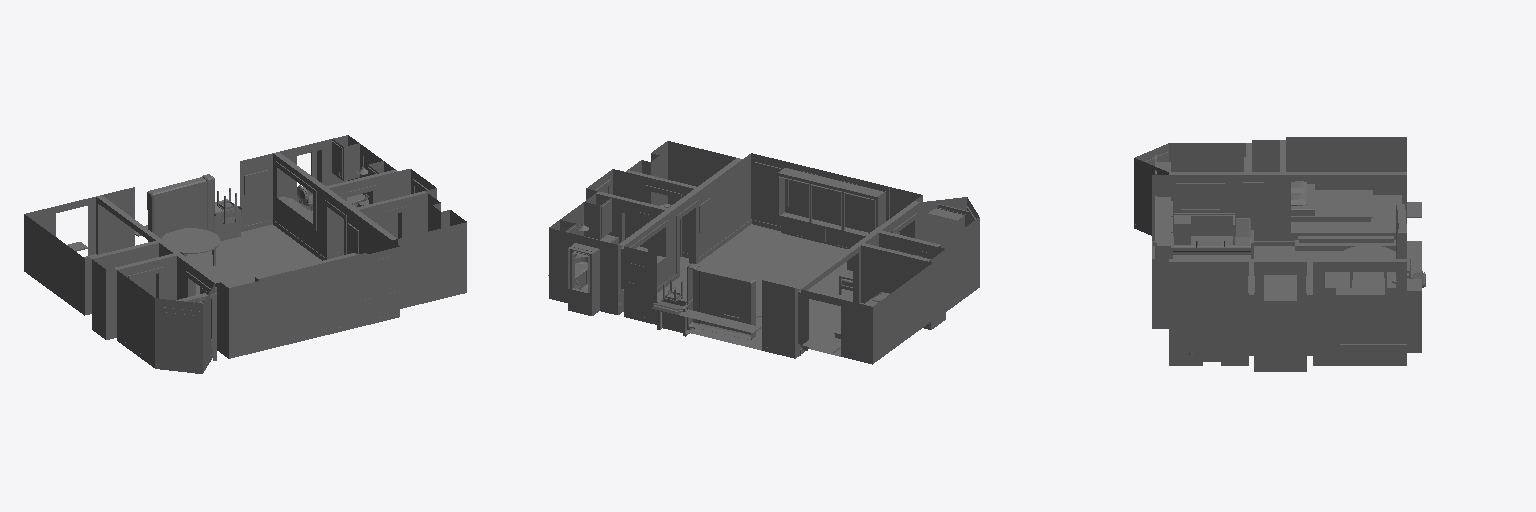
The model's file is appartzombi.obj.
3 views of the same model, side by side, from view 1: azimuth 30°, elevation 25°; view 2: azimuth 150°, elevation 25°; view 3: azimuth 270°, elevation 25° (orthographic).
Parts seen in each view (by area): view 1: polySurface461, polySurface465, polySurface373, polySurface429, polySurface463, polySurface458, polySurface378, polySurface448, polySurface452, polySurface464, polySurface451, diningTable (+4 smaller); view 2: polySurface461, polySurface465, polySurface463, polySurface373, polySurface447, polySurface429, polySurface378, polySurface145, polySurface448, polySurface464, polySurface452, polySurface451 (+5 smaller); view 3: polySurface463, polySurface461, polySurface465, polySurface373, polySurface458, polySurface452, polySurface429, polySurface460, polySurface445, polySurface464, computerDesk, polySurface448 (+7 smaller).
Part boxes in pixels (x1,y1,x2,y2): polySurface461: (102, 153, 399, 358); polySurface465: (85, 197, 214, 373); polySurface373: (24, 197, 95, 315); polySurface429: (186, 224, 321, 294); polySurface463: (280, 135, 436, 252); polySurface458: (400, 221, 466, 308); polySurface378: (147, 174, 214, 241); polySurface448: (241, 139, 383, 260); polySurface452: (359, 193, 466, 258); polySurface464: (90, 152, 426, 283); polySurface451: (325, 179, 427, 259); diningTable: (162, 228, 219, 265); polySurface461: (624, 153, 922, 358); polySurface465: (798, 197, 979, 344); polySurface463: (549, 169, 693, 315); polySurface373: (801, 263, 932, 364); polySurface447: (778, 162, 968, 248); polySurface429: (657, 224, 852, 350); polySurface378: (687, 263, 755, 339); polySurface145: (636, 243, 846, 291); polySurface448: (560, 197, 676, 317); polySurface464: (596, 158, 940, 288); polySurface452: (628, 141, 735, 177); polySurface451: (595, 179, 751, 278); polySurface463: (1254, 262, 1421, 371); polySurface461: (1152, 175, 1406, 328); polySurface465: (1134, 140, 1279, 235); polySurface373: (1286, 137, 1406, 194); polySurface458: (1169, 274, 1248, 365); polySurface452: (1169, 262, 1248, 322); polySurface429: (1153, 246, 1395, 300); polySurface460: (1291, 190, 1421, 273); polySurface445: (1291, 195, 1401, 245); polySurface464: (1169, 140, 1406, 294); computerDesk: (1173, 213, 1235, 244); polySurface448: (1306, 267, 1406, 355).
Bounding box in the file's own units: 16.01 × 3.33 × 12.03.